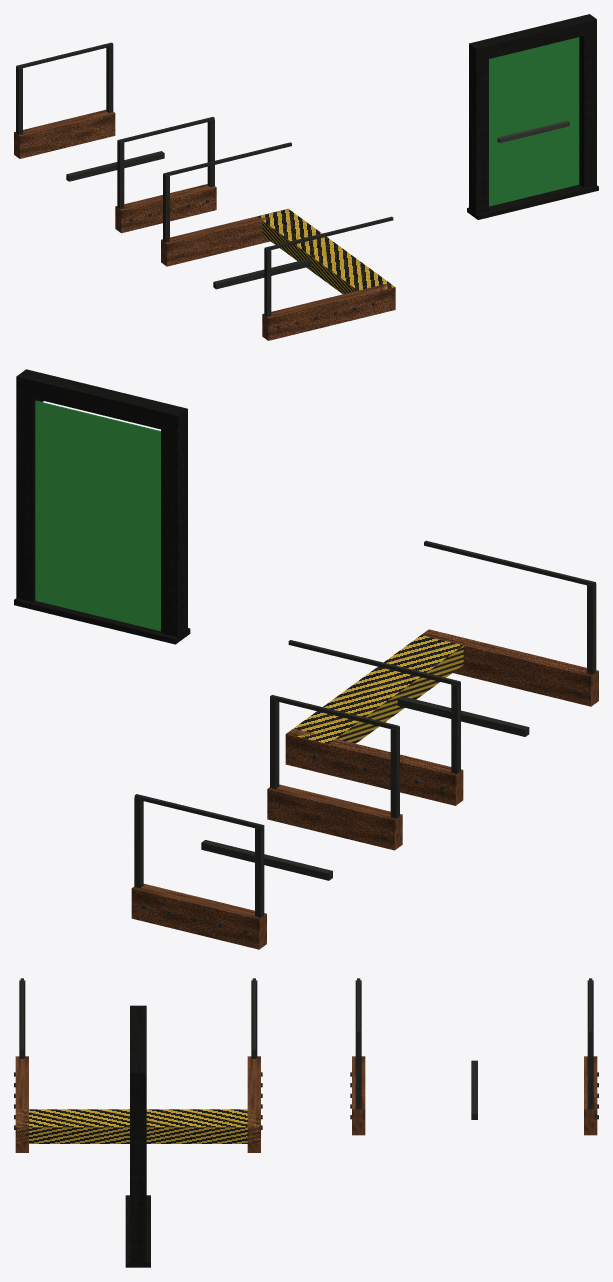
File: glassbridge.glb
3 views of the same model, one above another, from view 1: azimuth 30°, elevation 25°; view 2: azimuth 150°, elevation 25°; view 3: azimuth 270°, elevation 25° (orthographic). The views are drawn at different scales.
Visible parts, largest first — view 1: exit_door, row, row_last; view 2: exit_door, row, row_last; view 3: row, exit_door, row_last.
Boxes of the visible parts, x1,y1,x2,y2 form: exit_door: (467, 14, 598, 219); row: (161, 142, 395, 340); row_last: (14, 42, 216, 233); exit_door: (14, 369, 190, 644); row: (285, 540, 598, 805); row_last: (131, 695, 402, 949); row: (14, 978, 262, 1152); exit_door: (125, 1005, 150, 1267); row_last: (350, 978, 598, 1135).
Bounding box in the file's own units: 5.95 × 2.89 × 6.96.
Materials: 7 (5 with a texture image).
